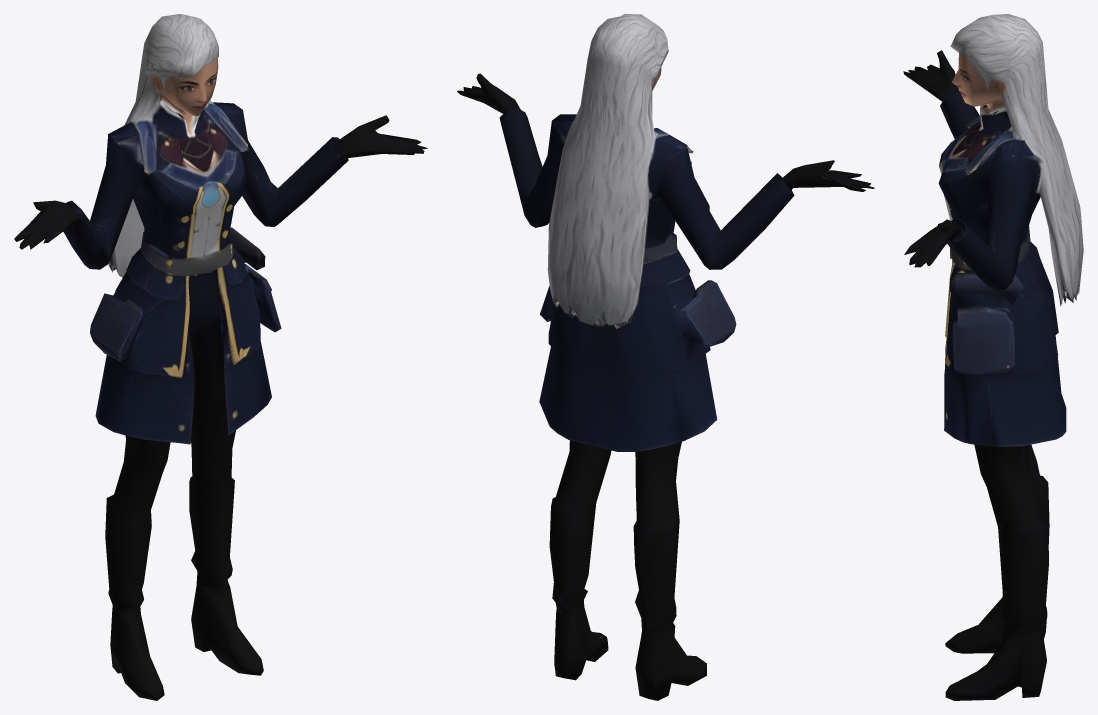
File: rail.glb
3 views of the same model, side by side, from view 1: azimuth 30°, elevation 25°; view 2: azimuth 150°, elevation 25°; view 3: azimuth 270°, elevation 25° (orthographic).
Size of the model in its own units: 1.24 by 1.9 by 0.4726.
Materials: 1 (1 with a texture image).
